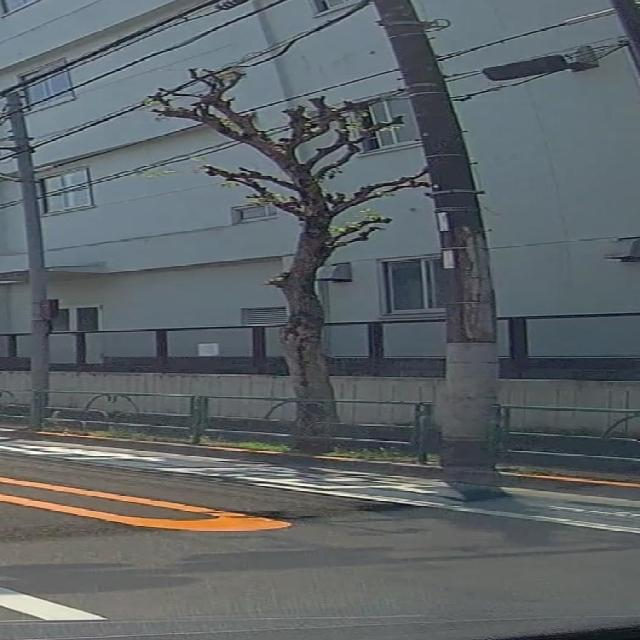maple: (146, 66, 432, 454)
